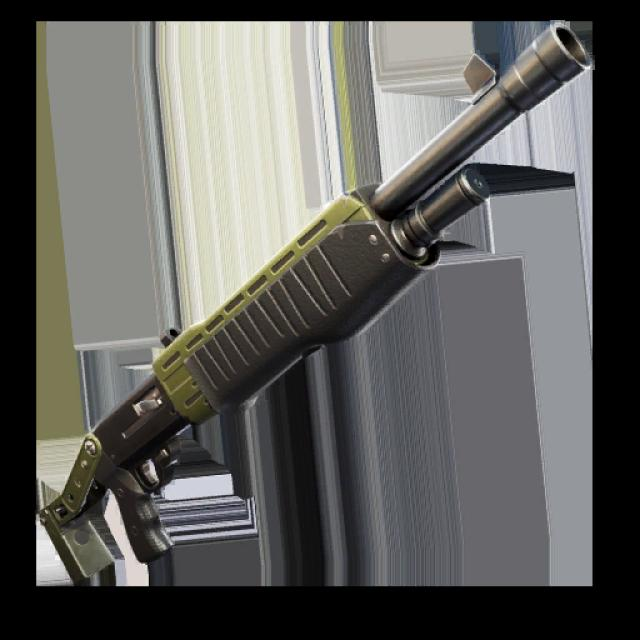ShotGun: (36, 25, 590, 585)
